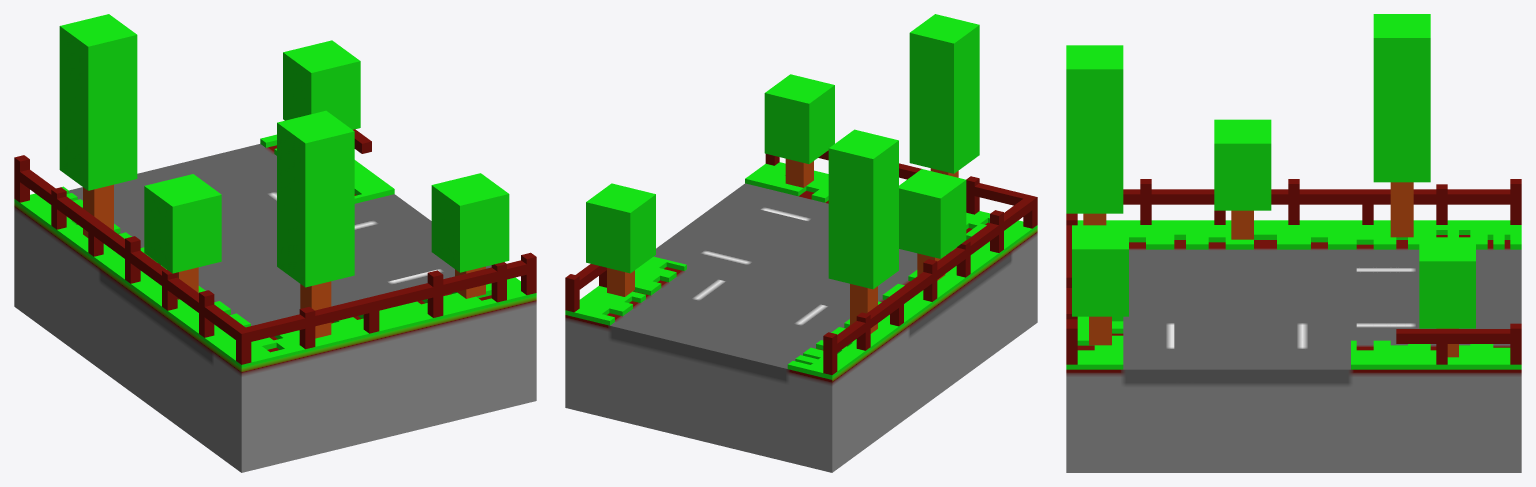
File: LastFowardPlane.fbx
The picture shows the model from 3 angles, left to right: view 1: azimuth 30°, elevation 25°; view 2: azimuth 150°, elevation 25°; view 3: azimuth 270°, elevation 25°; orthographic projection. The views are drawn at different scales.
Parts seen in each view (by area): view 1: LastFowardPlane; view 2: LastFowardPlane; view 3: LastFowardPlane.
Boxes of the visible parts, <box> form: LastFowardPlane: <box>14,14,536,472</box>; LastFowardPlane: <box>565,14,1037,472</box>; LastFowardPlane: <box>1066,14,1521,472</box>.
Size of the model in its own units: 60 by 61 by 80.
1 material, 1 textured.
